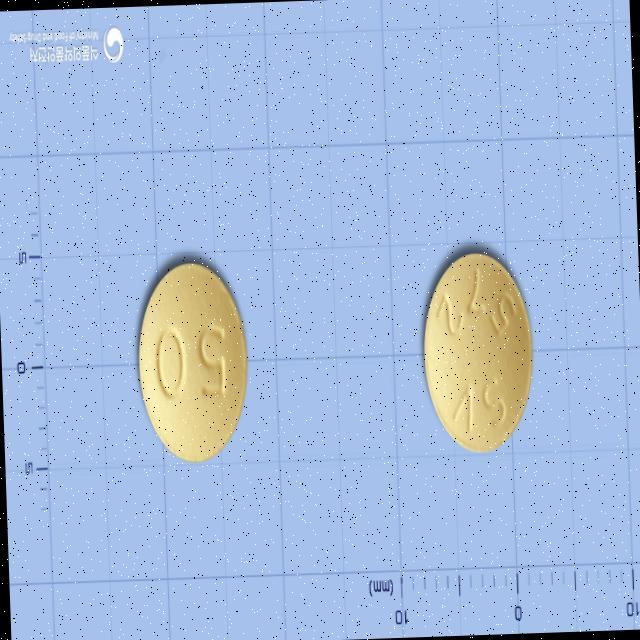Tivicay Tab: (419, 249, 537, 459), (134, 256, 251, 466)
